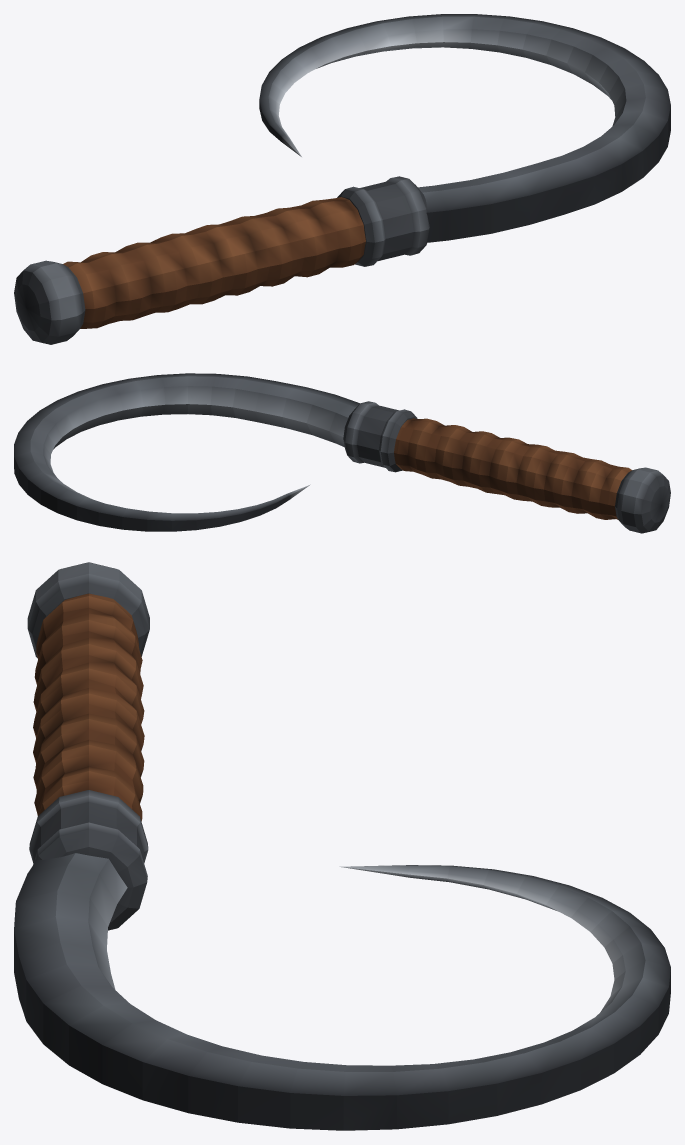
The model's file is HarvestHook.fbx.
The picture shows the model from 3 angles, top to bottom: view 1: azimuth 30°, elevation 25°; view 2: azimuth 150°, elevation 25°; view 3: azimuth 270°, elevation 25°; orthographic projection. The views are drawn at different scales.
Visible parts, largest first — view 1: HookBlade, HookHandle, HookPommel; view 2: HookBlade, HookHandle, HookPommel; view 3: HookBlade, HookHandle, HookPommel.
Boxes of the visible parts, box(x1,y1,x2,y2) form: HookBlade: box(259, 14, 670, 266); HookHandle: box(63, 197, 365, 328); HookPommel: box(14, 260, 85, 344); HookBlade: box(14, 373, 417, 531); HookHandle: box(394, 418, 631, 519); HookPommel: box(615, 467, 670, 533); HookBlade: box(14, 790, 670, 1130); HookHandle: box(33, 593, 144, 821); HookPommel: box(27, 562, 149, 658).
Bounding box in the file's own units: 402 × 41 × 220.
